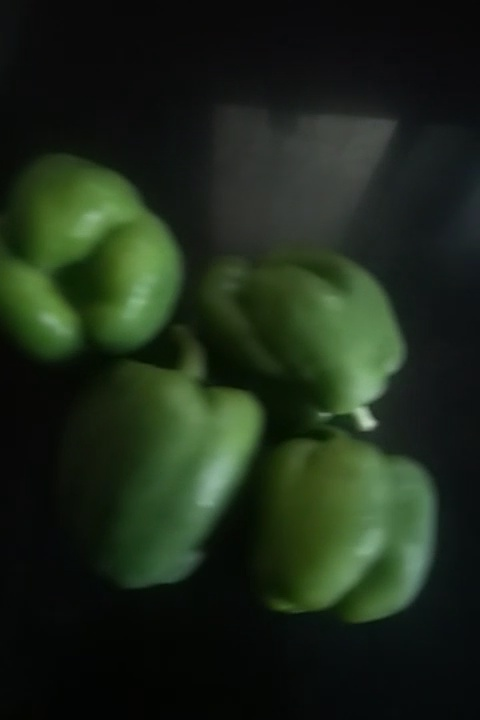capsicum: (53, 339, 262, 598), (172, 242, 425, 448), (1, 149, 188, 362), (262, 439, 451, 646)
